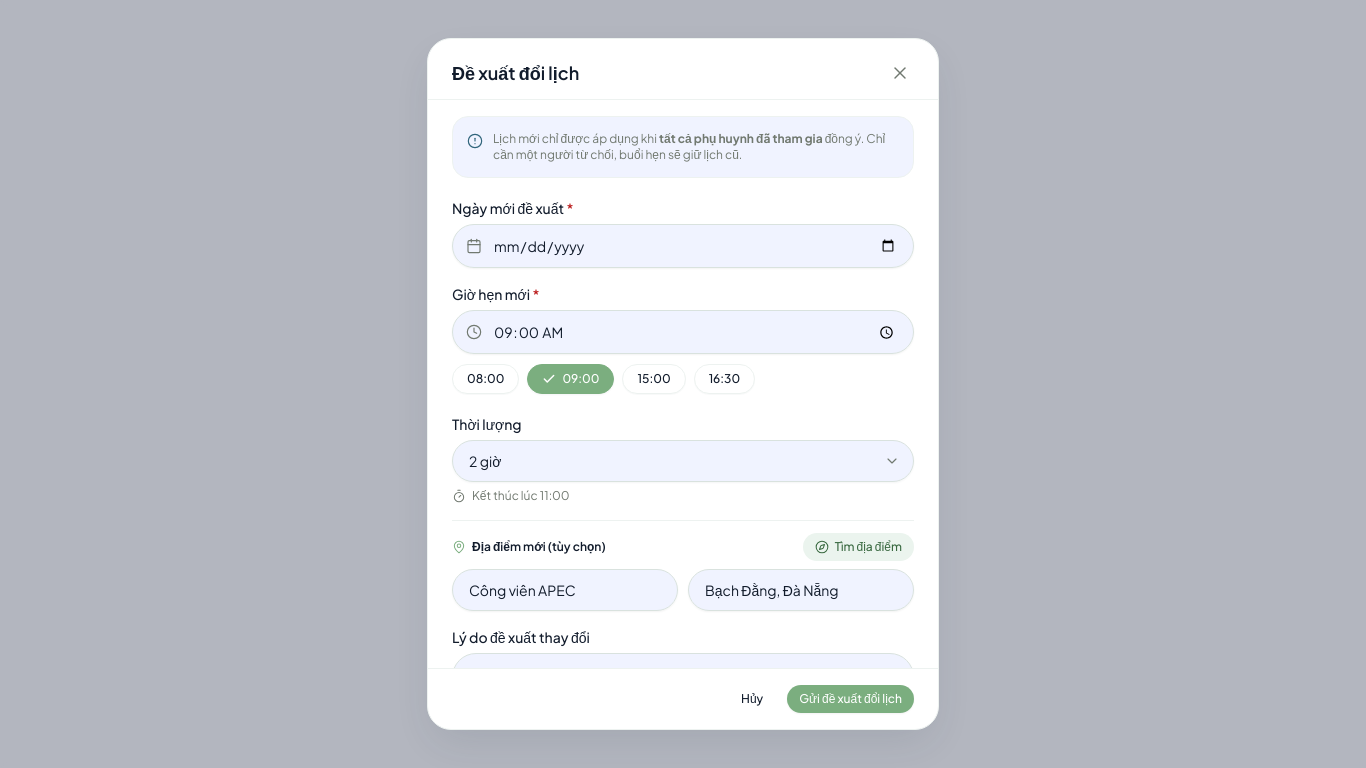
Test: RescheduleModal duration › shows a clash with the host child at the new time and does not send the proposal
Type "2030-11-05" into the date field labelled "Ngày mới đề xuất *" at x=683, y=246, box [452,224,914,268]
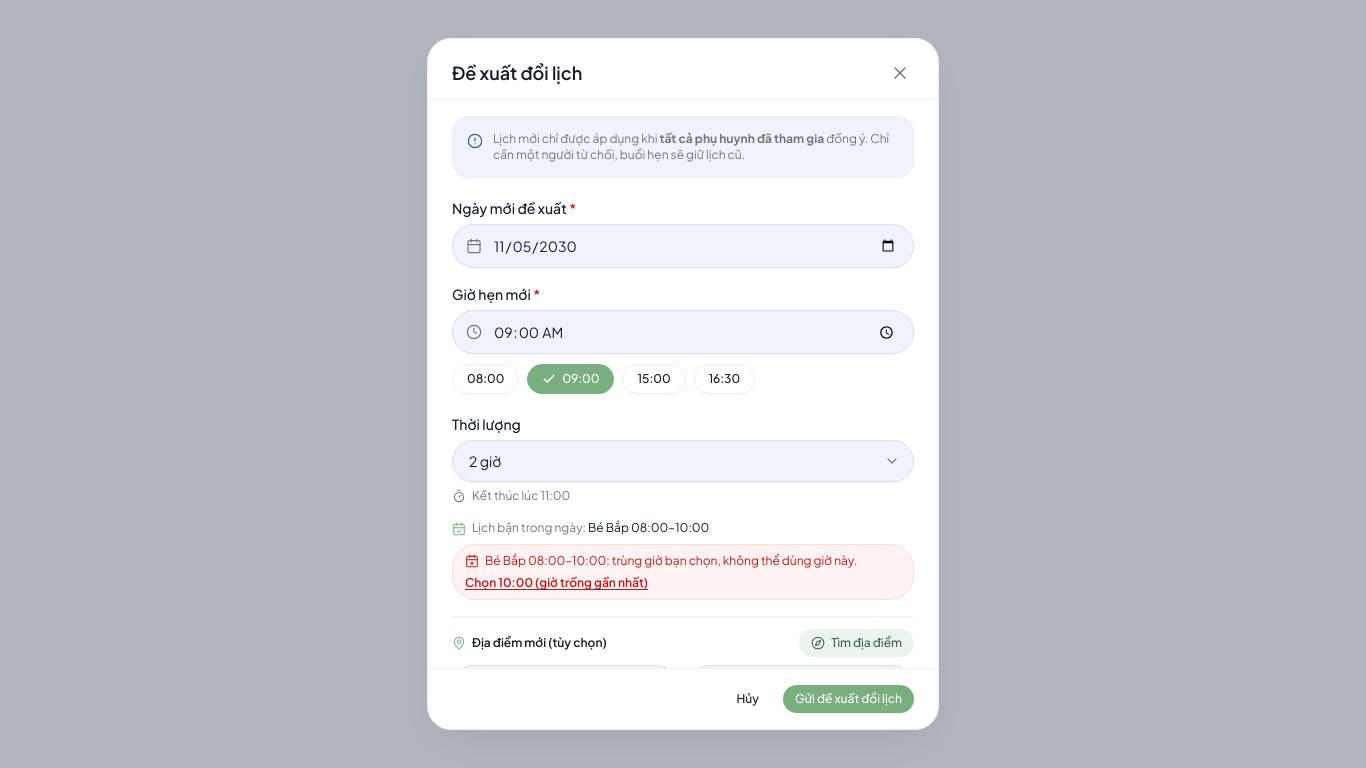
Check: the text "trùng giờ bạn chọn, không thể dùng giờ này" is shown, box [606,553,857,568]
Click the button "Gửi đề xuất đổi lịch" at x=848, y=699, box [783,685,914,713]
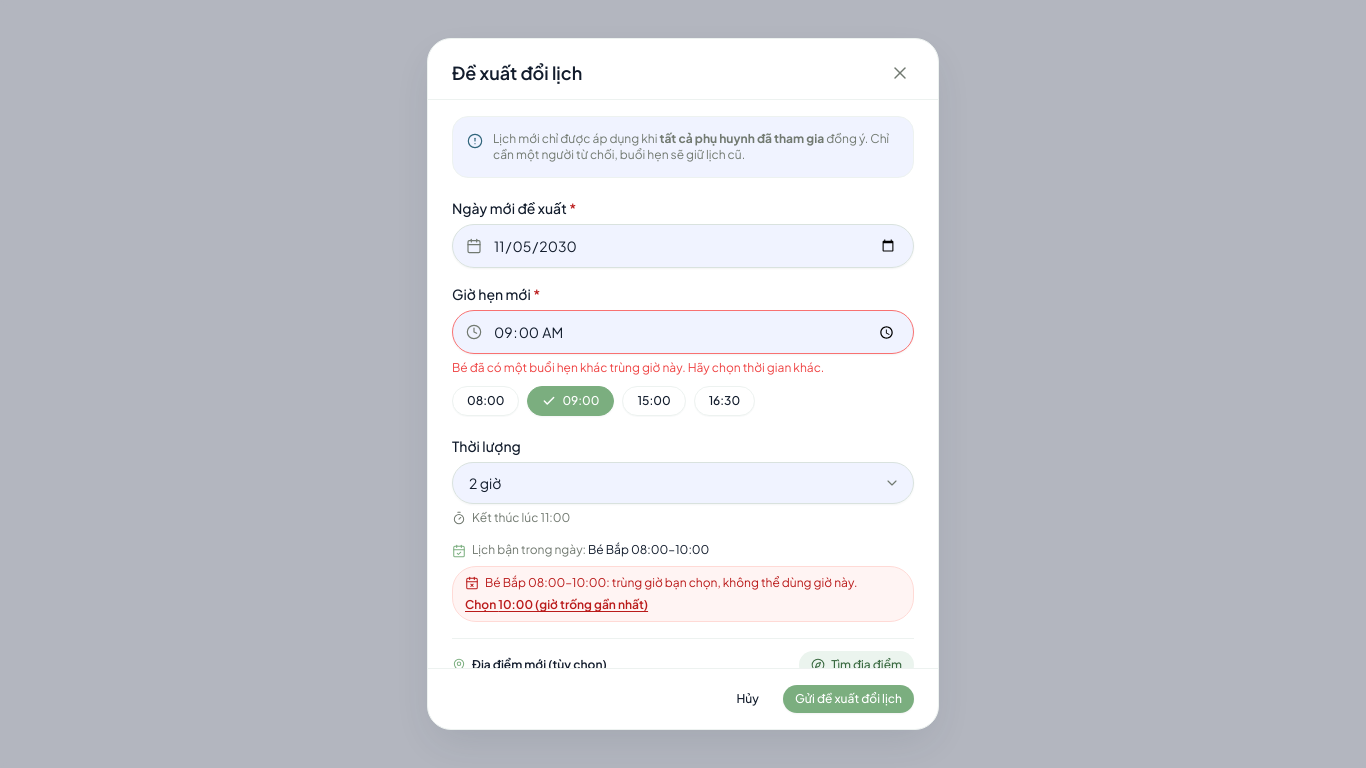
Check: the text "Bé đã có một buổi hẹn khác trùng giờ này" is shown, box [452,360,824,375]
Click the button "Chọn 10:00 (giờ trống gần nhất)" at x=557, y=605, box [465,597,648,613]
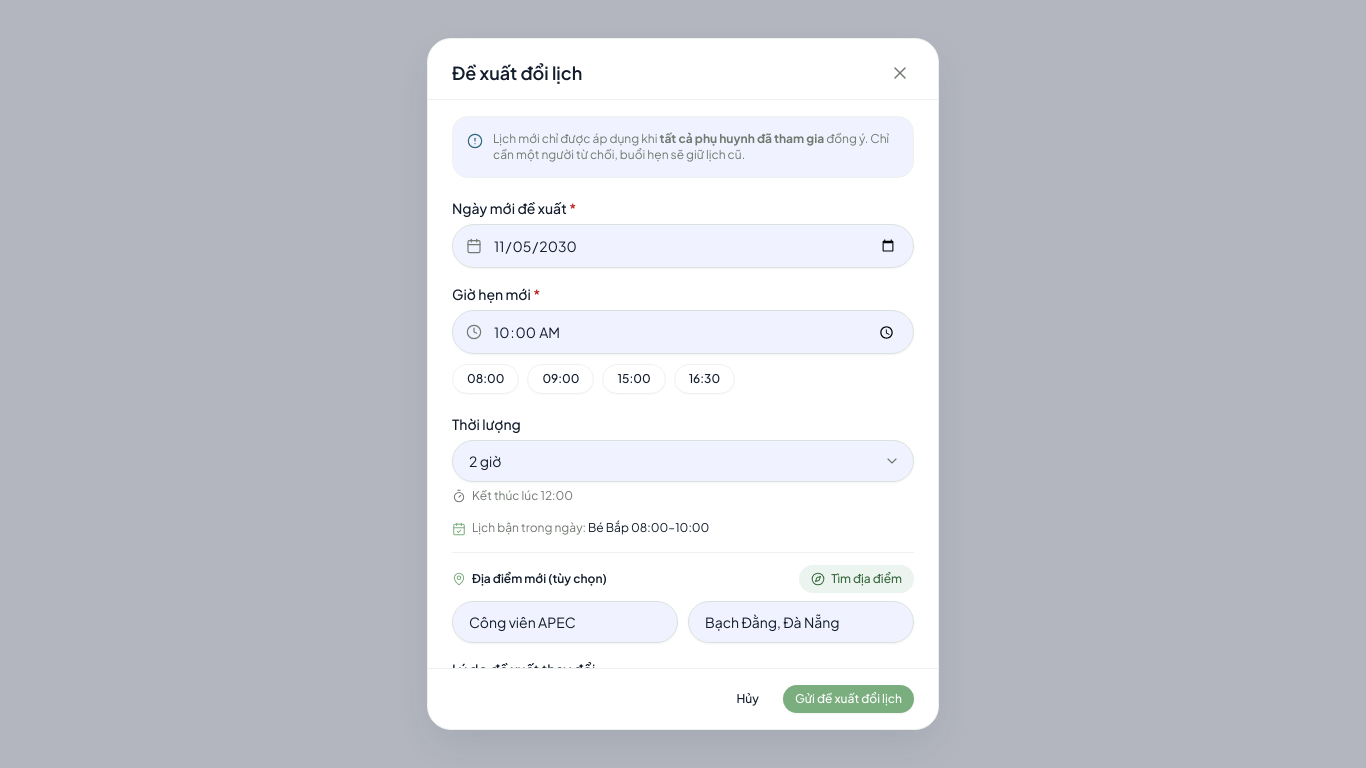
Check: the time field labelled "Giờ hẹn mới *" holds "10:00", box [452,310,914,354]
